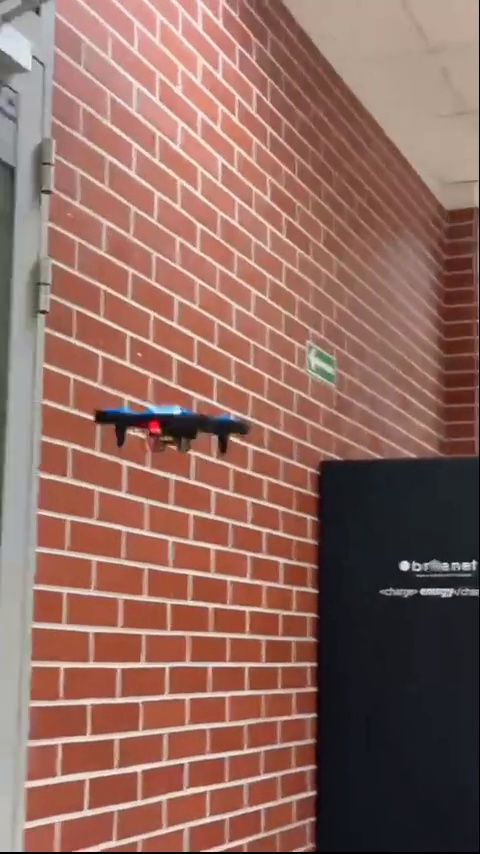drone: (90, 403, 248, 459)
